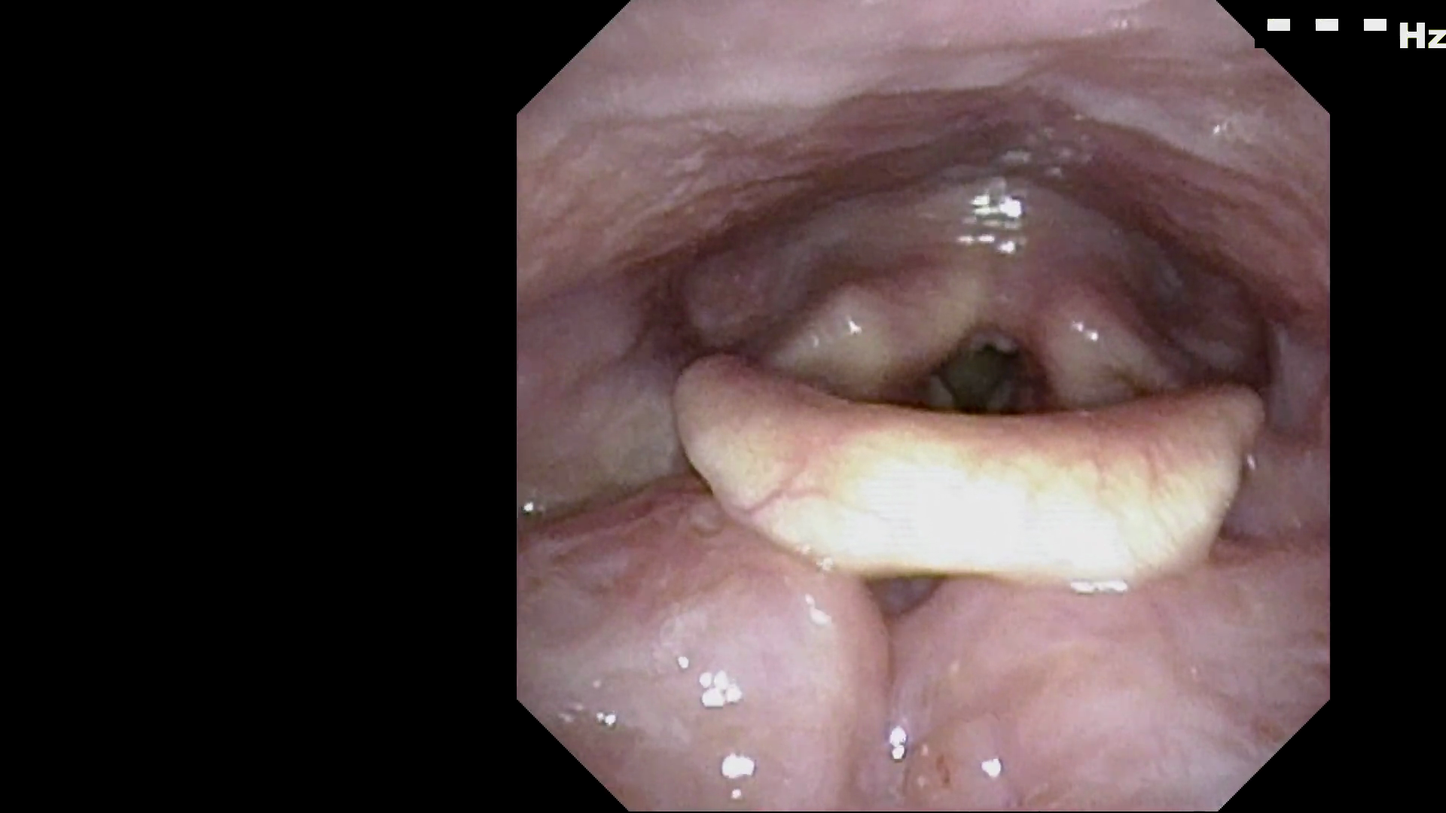epiglottis: (651, 330, 1268, 600)
trachea: (908, 305, 1054, 460)
